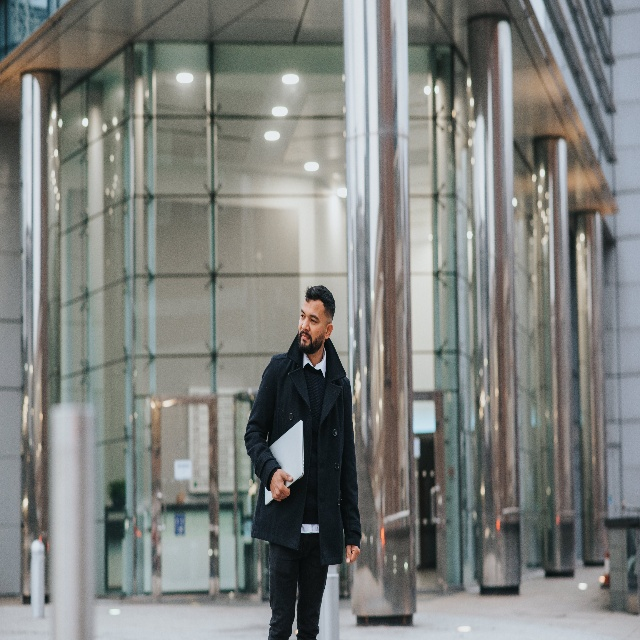Sin_guantes: (271, 469, 294, 501), (345, 544, 360, 566)
